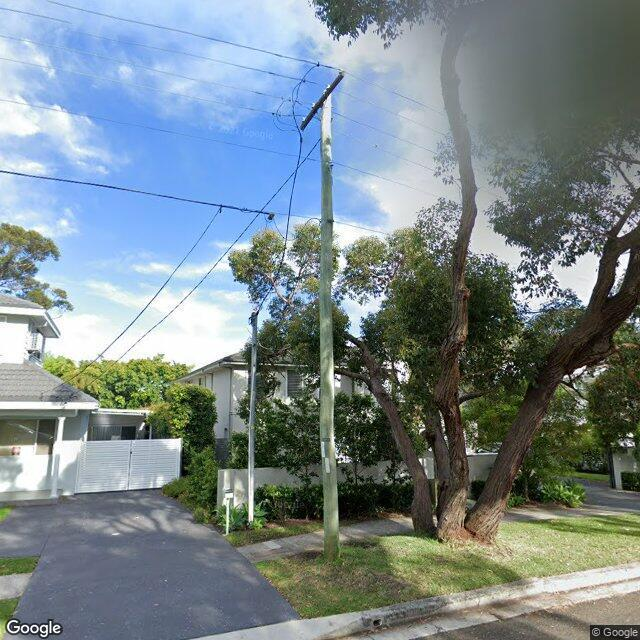crossarm: (298, 70, 347, 131)
steel-pole: (249, 311, 257, 523)
timber-pole: (320, 87, 339, 560)
